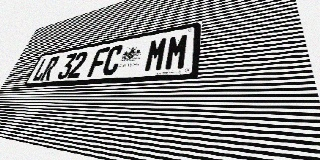2: (67, 51, 89, 79)
3: (56, 53, 78, 80)
C: (100, 44, 125, 76)
F: (87, 47, 110, 77)
L: (31, 57, 51, 82)
M: (163, 33, 190, 71), (143, 36, 169, 73)
R: (39, 56, 60, 81)
